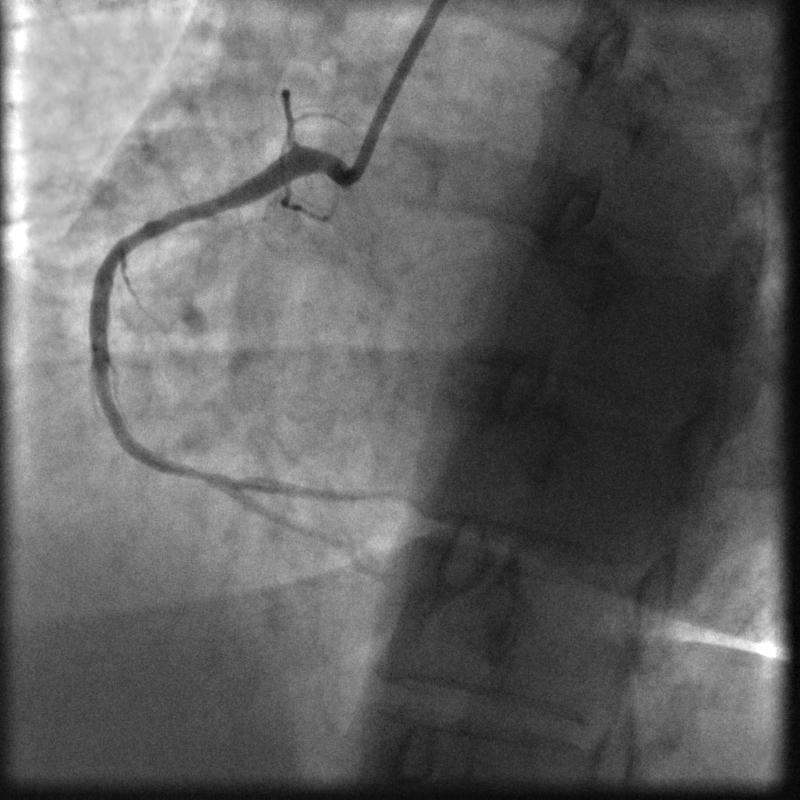Stenosis: (177, 456, 221, 489)
